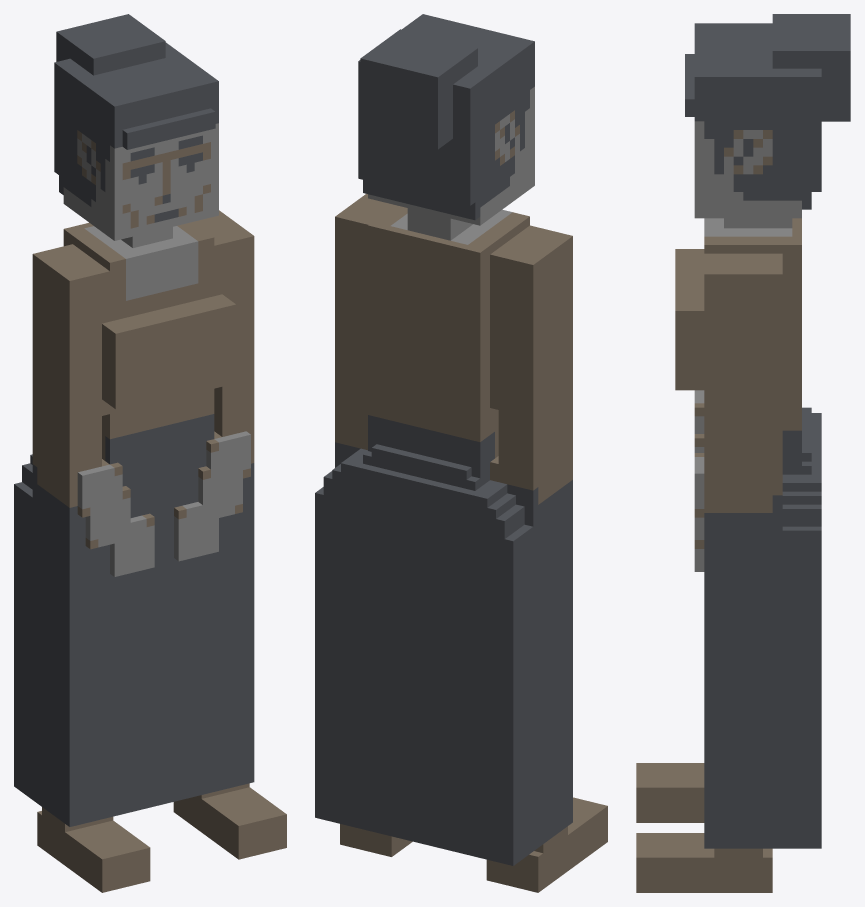
The model's file is wife.obj.
The picture shows the model from 3 angles, left to right: view 1: azimuth 30°, elevation 25°; view 2: azimuth 150°, elevation 25°; view 3: azimuth 270°, elevation 25°; orthographic projection. The views are drawn at different scales.
Size of the model in its own units: 23 by 92 by 22.
1 material, 1 textured.
